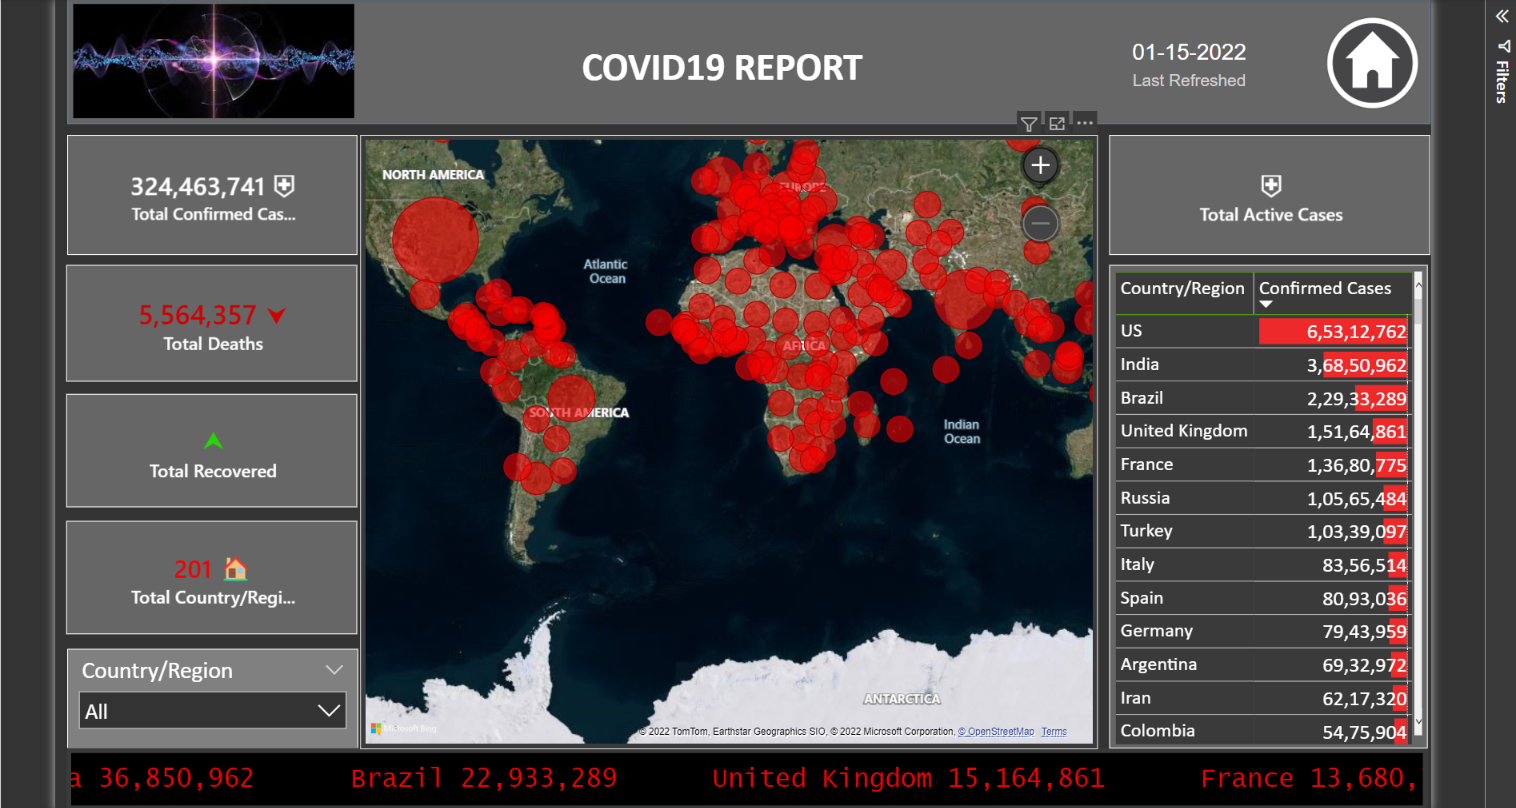

Layout of this report page (visuals, bound fields, positions):
{"tool":"powerbi","page":{"name":"COVID19 REPORT","canvas":[1320,780],"ordinal":1},"visuals":[{"type":"shape","title":"bgboc","box":[11.8,0,1307.8,120.2],"z":0},{"type":"image","title":"Image","box":[12.5,0,279.5,119.8],"z":1000},{"type":"textbox","box":[489.4,37.6,301.2,65],"z":2000},{"type":"image","box":[1209.8,0,107.1,120.2],"z":3000},{"type":"card","fields":{"Values":["Min(coviddetails.date)"]},"box":[979.9,13.1,216.9,94.1],"z":4000},{"type":"rotatingTile1859AB39DB23400988ADF752BCB9C967","fields":{"measureData":["Query1.total confirmed cases"]},"box":[11.8,130.7,278.3,115],"z":5000},{"type":"rotatingTile1859AB39DB23400988ADF752BCB9C967","fields":{"measureData":["Query1.total deaths"]},"box":[10.5,254.8,279.6,112.4],"z":6000},{"type":"rotatingTile1859AB39DB23400988ADF752BCB9C967","fields":{"measureData":["Query1.COUNTRY_REGION"]},"box":[10.5,378.9,279.6,108.4],"z":7000},{"type":"rotatingTile1859AB39DB23400988ADF752BCB9C967","fields":{"measureData":["Query1.country region"]},"box":[10.5,500.4,279.6,108.4],"z":8000},{"type":"rotatingTile1859AB39DB23400988ADF752BCB9C967","fields":{"measureData":["Query1.Total Active Cases"]},"box":[1011.3,130.7,308.3,115],"z":9000},{"type":"slicer","fields":{"Values":["coviddetails.Country_Region"]},"box":[11.8,623.8,279,96.3],"z":10000},{"type":"ScrollingTextVisual1448795304508","fields":{"Category":["coviddetails.Country_Region"],"Measure Absolute":["Sum(coviddetails.Confirmed)"]},"box":[10.5,718.6,1306.5,60.1],"z":11000},{"type":"pivotTable","fields":{"Rows":["coviddetails.Country_Region"],"Values":["Sum(coviddetails.Confirmed)"]},"box":[1011.3,254.8,305.7,463.8],"z":12000},{"type":"map","fields":{"Category":["coviddetails.Country_Region"],"Size":["Sum(coviddetails.Confirmed)"]},"box":[292.7,130.7,708.1,589.2],"z":13000}]}

Visuals, with their boxes on the page's 1320x780 design canvas (x1, y1, x2, y2). These are canvas units, not pixel positions in the 1516x808 screenshot, which may show the page scaled, cropped or inside an application window:
"bgboc" shape: [12, 0, 1320, 120]
"Image" image: [12, 0, 292, 120]
textbox: [489, 38, 791, 103]
image: [1210, 0, 1317, 120]
card - Min(coviddetails.date): [980, 13, 1197, 107]
rotatingTile1859AB39DB23400988ADF752BCB9C967 - Query1.total confirmed cases: [12, 131, 290, 246]
rotatingTile1859AB39DB23400988ADF752BCB9C967 - Query1.total deaths: [10, 255, 290, 367]
rotatingTile1859AB39DB23400988ADF752BCB9C967 - Query1.COUNTRY_REGION: [10, 379, 290, 487]
rotatingTile1859AB39DB23400988ADF752BCB9C967 - Query1.country region: [10, 500, 290, 609]
rotatingTile1859AB39DB23400988ADF752BCB9C967 - Query1.Total Active Cases: [1011, 131, 1320, 246]
slicer - coviddetails.Country_Region: [12, 624, 291, 720]
ScrollingTextVisual1448795304508 - coviddetails.Country_Region x Sum(coviddetails.Confirmed): [10, 719, 1317, 779]
pivotTable - coviddetails.Country_Region x Sum(coviddetails.Confirmed): [1011, 255, 1317, 719]
map - coviddetails.Country_Region x Sum(coviddetails.Confirmed): [293, 131, 1001, 720]
